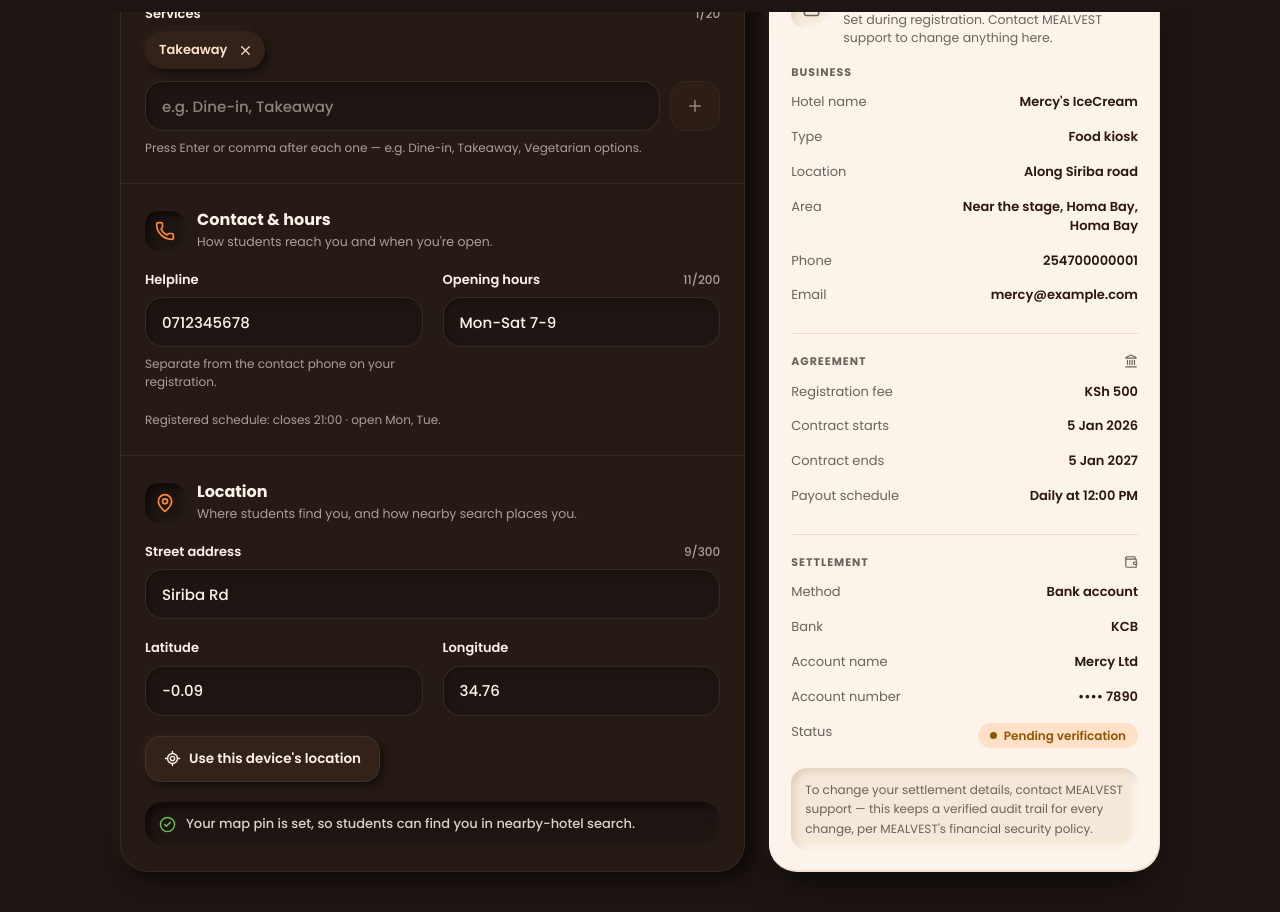
Test: HotelProfileScreen › 'Use this device's location' fills the pair; a denial explains itself
The image size is (1280, 912).
(page scrolled)
Click the button "Use this device's location": click(262, 759) x1=145 y1=736 x2=380 y2=782
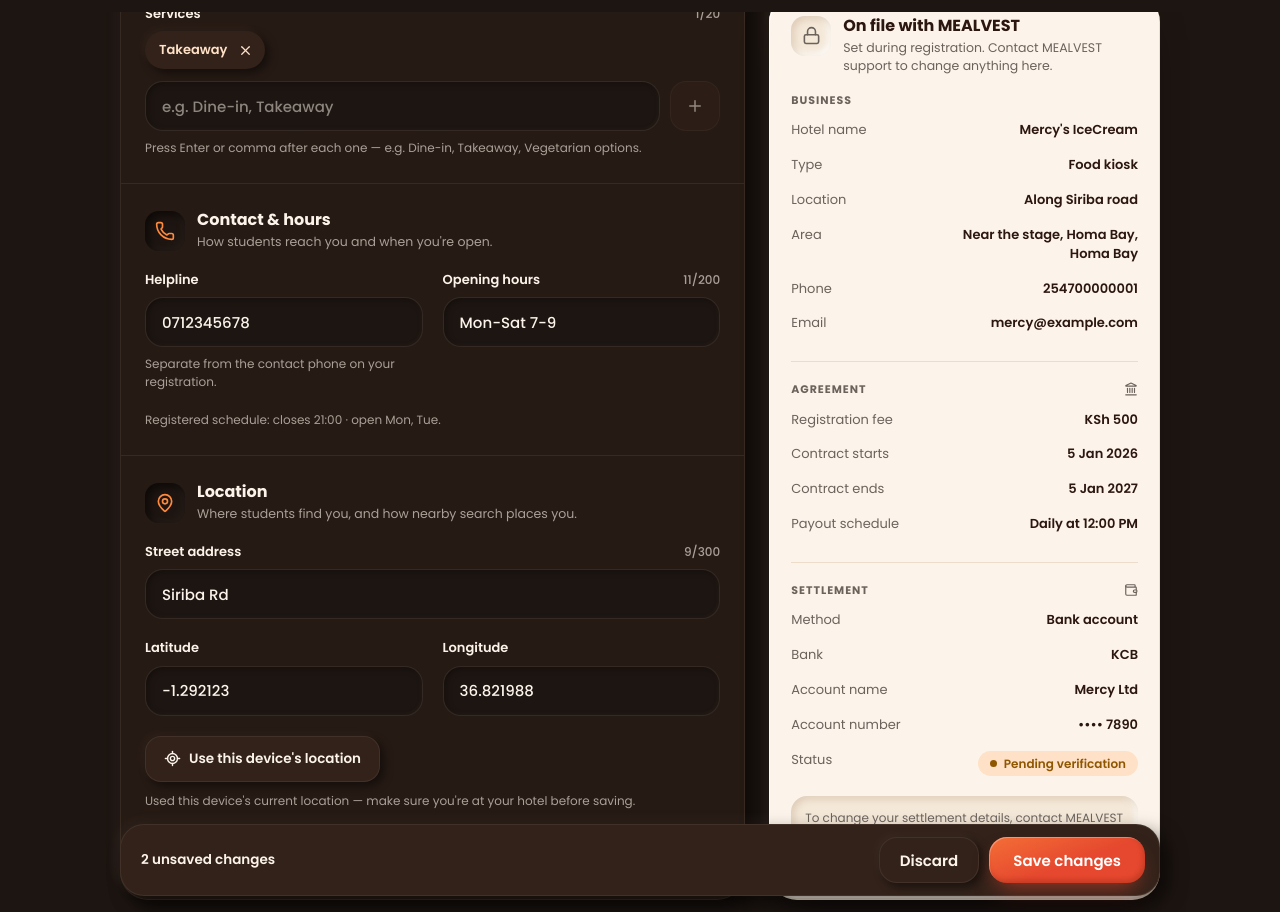
Click the button "Use this device's location": click(262, 759) x1=145 y1=736 x2=380 y2=782
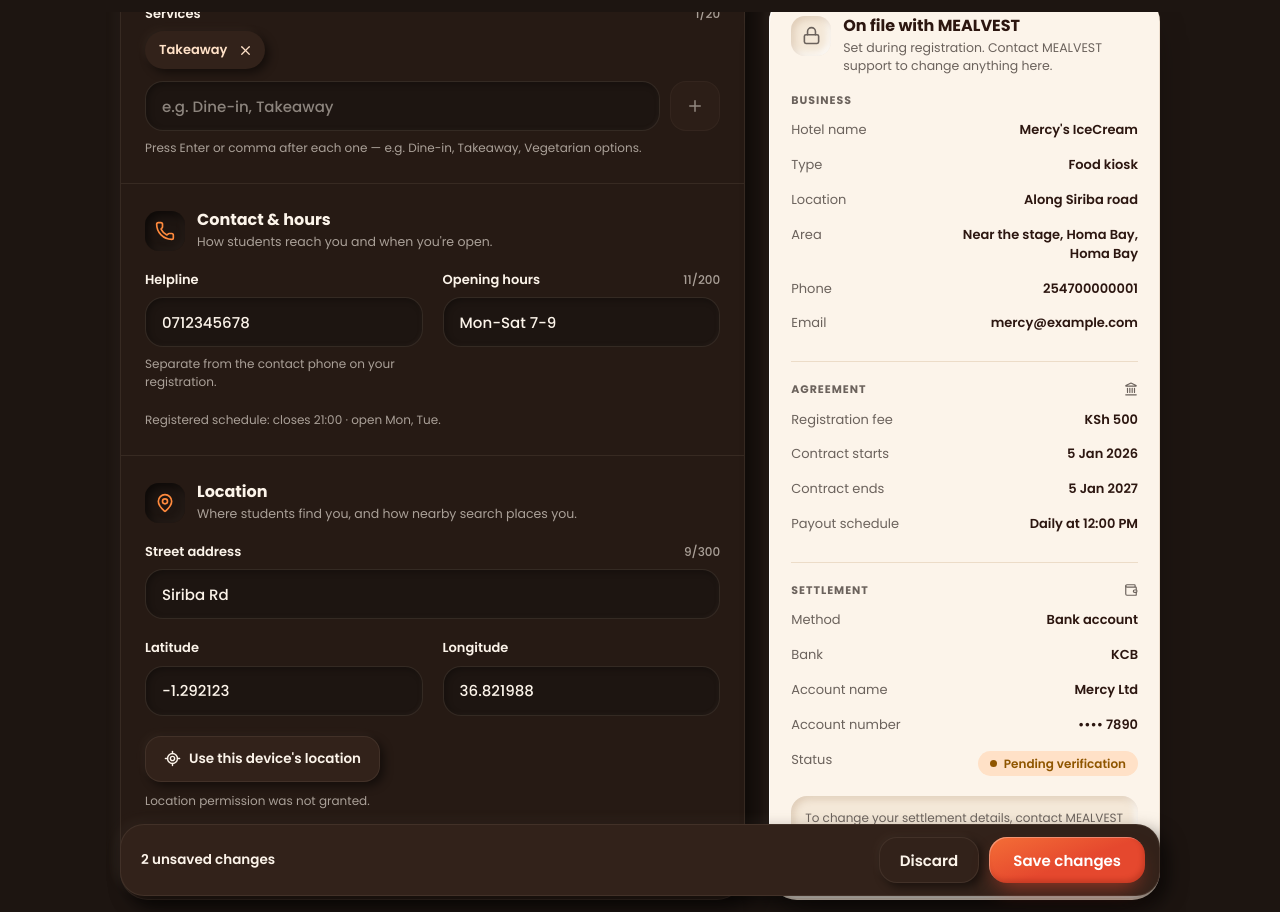
Expected: the text "Location permission was not granted." is shown, x1=145 y1=792 x2=370 y2=809
